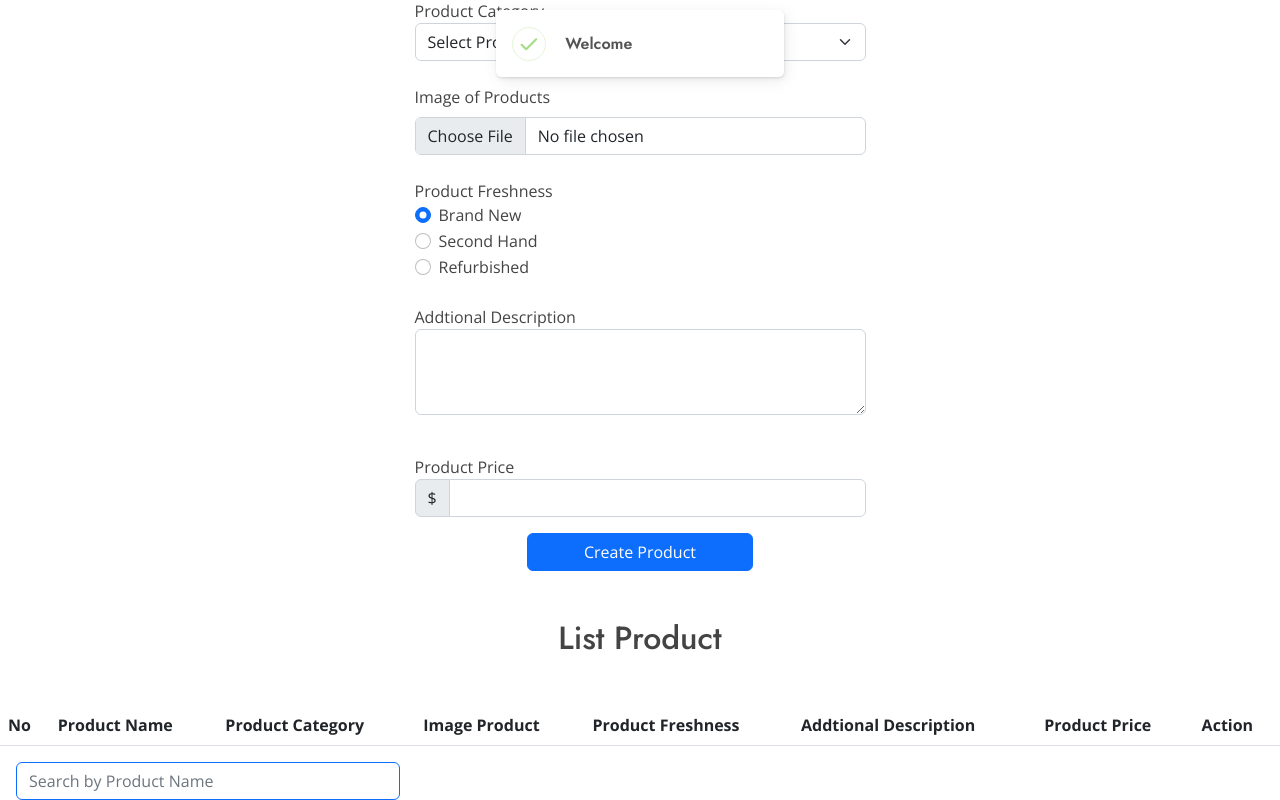
Test case: Create Product › should show error message on submit with empty input
The image size is (1280, 800).
(page scrolled)
Step 1. Click the button "Create Product" → x=640, y=552, box x1=527 y1=533 x2=753 y2=571
(page scrolled)
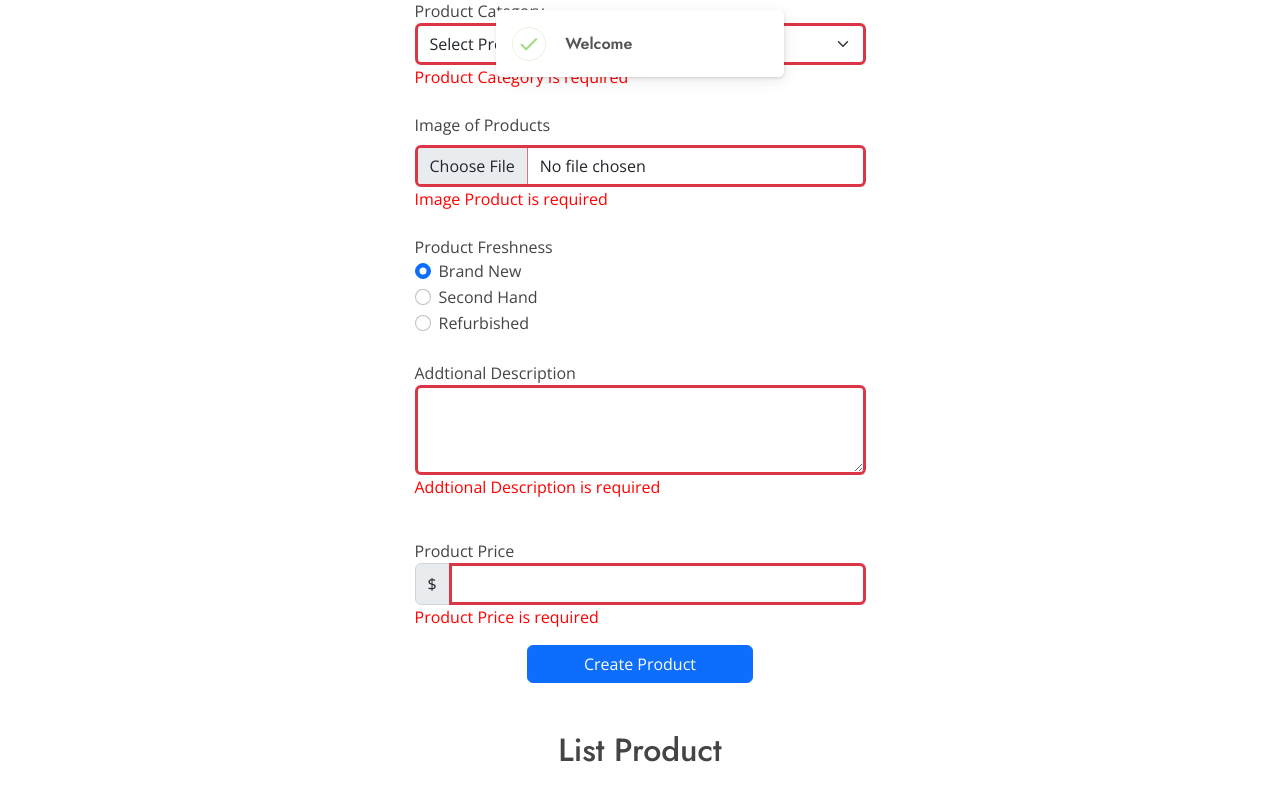
Result: the text "Image Product is required" is shown at x1=414 y1=188 x2=608 y2=210
Result: the text "Product Category is required" is shown at x1=414 y1=66 x2=628 y2=88
Result: the text "Product Price is required" is shown at x1=414 y1=606 x2=599 y2=628
